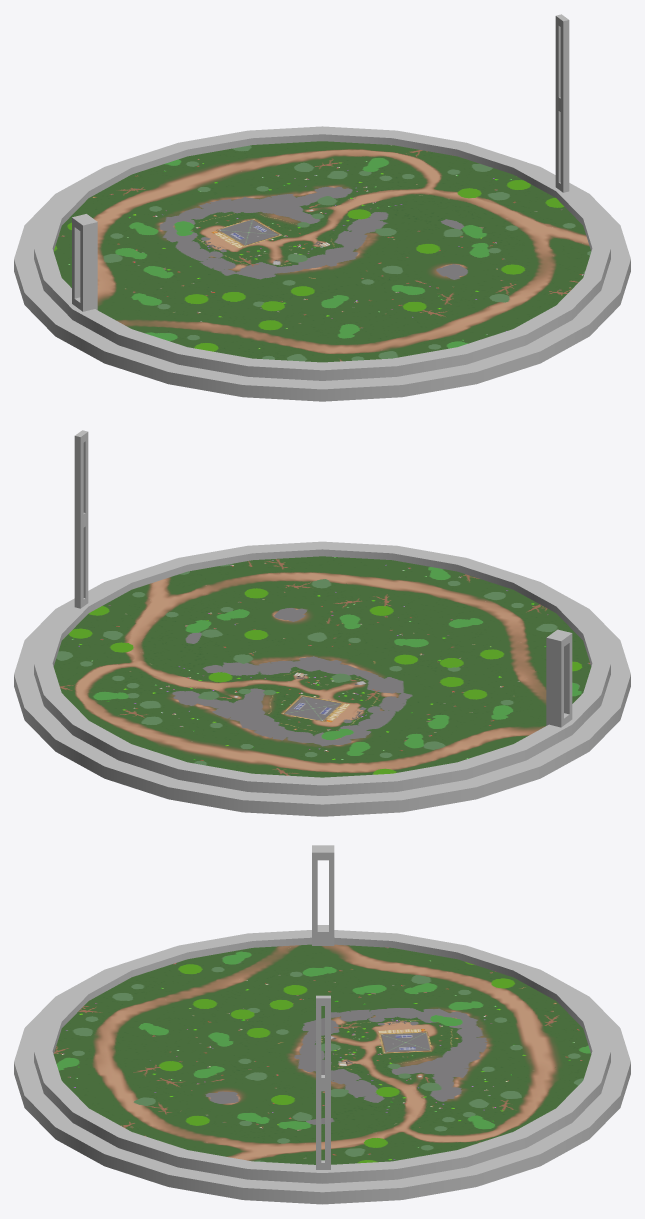
Rendered from SM_FireDetector_01.fbx.
The picture shows the model from 3 angles, top to bottom: view 1: azimuth 30°, elevation 25°; view 2: azimuth 150°, elevation 25°; view 3: azimuth 270°, elevation 25°; orthographic projection.
Visible parts, largest first — view 1: SM_FireDetector_01; view 2: SM_FireDetector_01; view 3: SM_FireDetector_01.
Part boxes in pixels (box(x1,y1,x2,y2)): SM_FireDetector_01: box(14, 14, 630, 401); SM_FireDetector_01: box(14, 430, 630, 816); SM_FireDetector_01: box(14, 845, 630, 1204).
Bounding box in the file's own units: 82.9 × 28.83 × 82.9.
